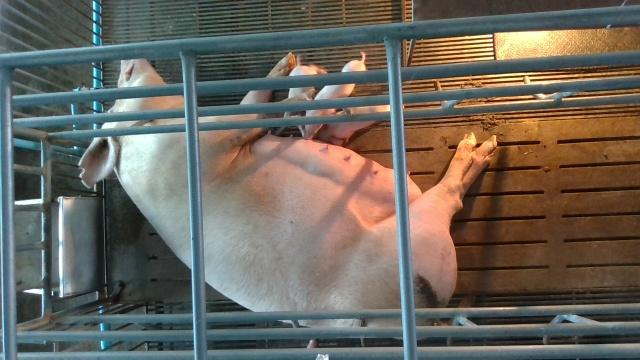piglet: (302, 51, 365, 139), (319, 105, 405, 146), (284, 55, 327, 118)
sow-sleep-lactate: (78, 50, 498, 327)
